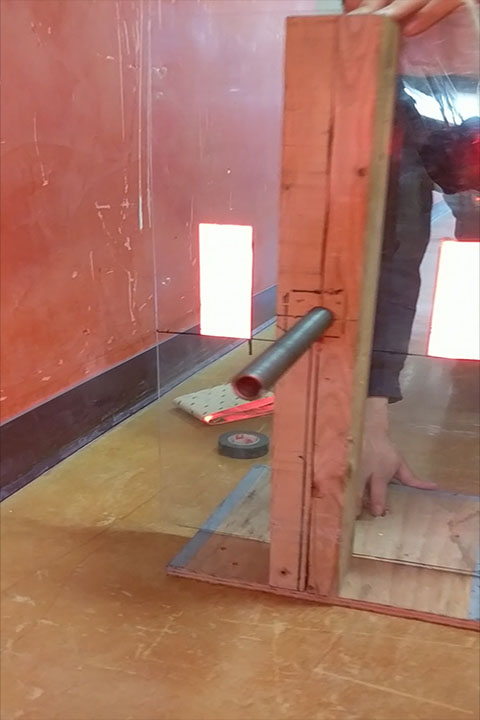gear: (198, 221, 253, 341), (427, 241, 480, 361)
